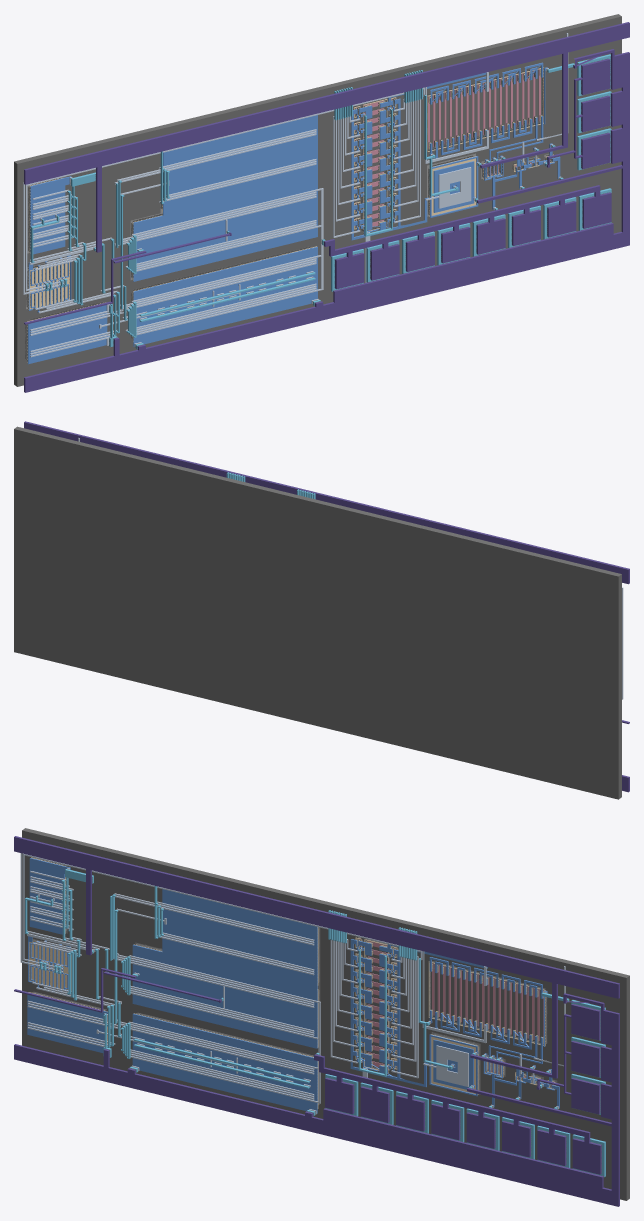
Rendered from bandgap1.gds.gltf.
3 views of the same model, one above another, from view 1: azimuth 30°, elevation 25°; view 2: azimuth 150°, elevation 25°; view 3: azimuth 330°, elevation 25° (orthographic).
Visible parts, largest first — view 1: bandgap_substrate, bandgap_met4, bg__se_folded_cascode_p_substrate, bg__se_folded_cascode_p_met4, bg__cap_met4 (×11), bgfc__casp_bot_met1, bgfc__casp_top_met1, bgfc__casn_top_met1, bandgap_met1, bgfc__casn_top_met2, bg__res_substrate, bgfc__casp_bot_met2 (+24 smaller); view 2: bandgap_substrate, bg__se_folded_cascode_p_substrate, bg__cap_substrate (×7), bg__se_folded_cascode_p_met4, bandgap_met4, bg__res_substrate; view 3: bandgap_substrate, bandgap_met4, bg__se_folded_cascode_p_substrate, bg__se_folded_cascode_p_met4, bg__cap_met4 (×11), bgfc__casp_bot_met1, bgfc__casp_top_met1, bgfc__casn_top_met1, bg__res_substrate, bandgap_met1, bgfc__casn_top_met2, bgfc__casp_bot_met2 (+26 smaller).
Part boxes in pixels (x1,y1,x2,y2): bandgap_substrate: (14, 14, 621, 386); bandgap_met4: (24, 22, 629, 323); bg__se_folded_cascode_p_substrate: (14, 90, 322, 386); bg__se_folded_cascode_p_met4: (24, 96, 330, 392); bg__cap_met4 (×11): (333, 57, 613, 293); bgfc__casp_bot_met1: (133, 179, 317, 281); bgfc__casp_top_met1: (163, 117, 317, 212); bgfc__casn_top_met1: (133, 246, 317, 342); bandgap_met1: (351, 62, 560, 240); bgfc__casn_top_met2: (125, 255, 319, 335); bg__res_substrate: (428, 70, 541, 149); bgfc__casp_bot_met2: (123, 189, 319, 271); bandgap_substrate: (14, 426, 621, 799); bg__se_folded_cascode_p_substrate: (326, 507, 621, 799); bg__cap_substrate (×7): (30, 464, 167, 663); bg__se_folded_cascode_p_met4: (323, 495, 629, 792); bandgap_met4: (24, 421, 628, 723); bg__res_substrate: (93, 479, 209, 562); bandgap_substrate: (22, 828, 629, 1200); bandgap_met4: (14, 909, 619, 1206); bg__se_folded_cascode_p_substrate: (22, 831, 327, 1118); bg__se_folded_cascode_p_met4: (14, 836, 319, 1133); bg__cap_met4 (×11): (323, 1004, 603, 1178); bgfc__casp_bot_met1: (132, 944, 317, 1048); bgfc__casp_top_met1: (162, 890, 317, 986); bgfc__casn_top_met1: (132, 1013, 317, 1109); bg__res_substrate: (430, 964, 546, 1044); bandgap_met1: (350, 944, 559, 1108); bgfc__casn_top_met2: (122, 1021, 315, 1102); bgfc__casp_bot_met2: (119, 955, 316, 1039).
Size of the model in its own units: 210 by 74.12 by 6.87.
